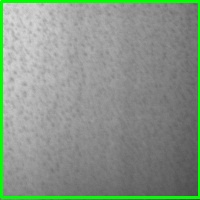pitted_surface: (1, 1, 199, 197)
